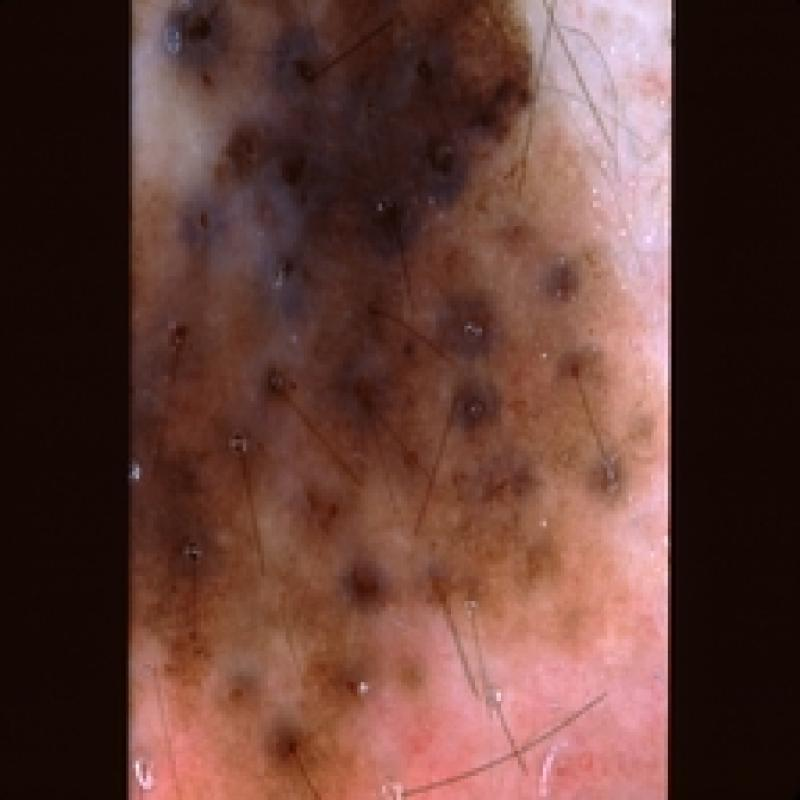malignant: (134, 2, 630, 767)
